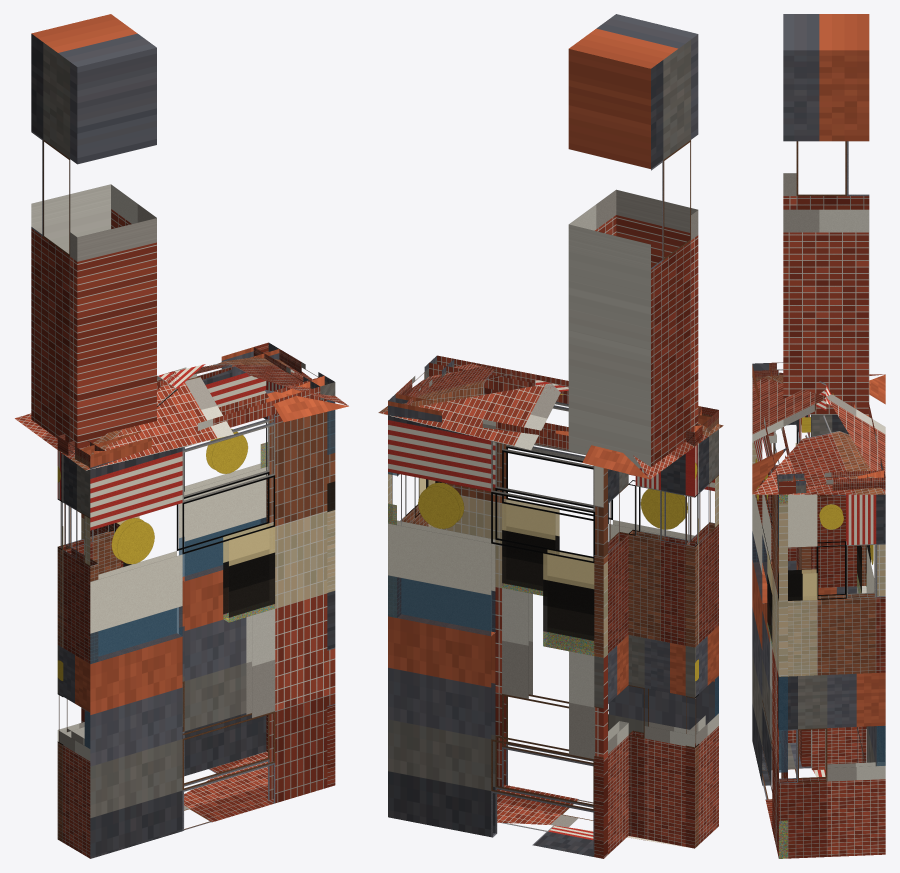
3 renders of one model, left to right at view 1: azimuth 30°, elevation 25°; view 2: azimuth 150°, elevation 25°; view 3: azimuth 270°, elevation 25°, orthographic. The views are drawn at different scales.
Parts seen in each view (by area): view 1: 238625188__wall_4_xb, 238625188__chimney_0_xb, 238625188__wall_0_xb, 238625188__wall_3_xb, 238625188__wall_4_xf, 238625188_roof_front_xb, 238625188__base, 238625188__wall_2_xb, 238625188__wall_5_xb, 238625188__cornice_4, 238625188__wall_0_xf, 238625188_roof_right_xb (+4 smaller); view 2: 238625188__wall_0_xb, 238625188__chimney_0_xb, 238625188__wall_4_xb, 238625188__wall_2_xb, 238625188__wall_3_xb, 238625188__wall_1_xb, 238625188__wall_0_xf, 238625188_roof_back_xb, 238625188__wall_4_xf, 238625188__base, 238625188_roof_right_xb, 238625188__cornice_0 (+3 smaller); view 3: 238625188__chimney_0_xb, 238625188__wall_5_xb, 238625188__wall_4_xb, 238625188__wall_1_xb, 238625188_roof_right_xb, 238625188_roof_front_xb, 238625188_roof_back_xb, 238625188__wall_4_xf, 238625188__wall_0_xb, 238625188__cornice_5, 238625188__wall_2_xb, 238625188__wall_3_xb (+5 smaller).
Boxes of the visible parts, box(x1,y1,x2,y2) form: 238625188__wall_4_xb: box(84, 399, 335, 858); 238625188__chimney_0_xb: box(31, 14, 156, 449); 238625188__wall_0_xb: box(81, 369, 267, 776); 238625188__wall_3_xb: box(57, 450, 98, 858); 238625188__wall_4_xf: box(85, 524, 274, 748); 238625188_roof_front_xb: box(86, 372, 348, 470); 238625188__base: box(184, 751, 273, 830); 238625188__wall_2_xb: box(57, 454, 120, 842); 238625188__wall_5_xb: box(260, 381, 335, 787); 238625188__cornice_4: box(80, 375, 324, 469); 238625188__wall_0_xf: box(118, 432, 265, 580); 238625188_roof_right_xb: box(157, 357, 348, 405); 238625188__wall_0_xb: box(388, 415, 607, 858); 238625188__chimney_0_xb: box(568, 14, 698, 468); 238625188__wall_4_xb: box(433, 388, 718, 786); 238625188__wall_2_xb: box(628, 444, 698, 847); 238625188__wall_3_xb: box(685, 429, 718, 848); 238625188__wall_1_xb: box(594, 466, 628, 858); 238625188__wall_0_xf: box(388, 488, 593, 655); 238625188_roof_back_xb: box(379, 383, 649, 479); 238625188__wall_4_xf: box(502, 500, 718, 715); 238625188__base: box(497, 784, 690, 856); 238625188_roof_right_xb: box(378, 364, 568, 412); 238625188__cornice_0: box(388, 394, 568, 450); 238625188__chimney_0_xb: box(783, 14, 869, 414); 238625188__wall_5_xb: box(778, 494, 885, 858); 238625188__wall_4_xb: box(752, 436, 787, 858); 238625188__wall_1_xb: box(811, 414, 866, 770); 238625188_roof_right_xb: box(753, 385, 885, 494); 238625188_roof_front_xb: box(752, 378, 825, 494); 238625188_roof_back_xb: box(826, 374, 885, 493); 238625188__wall_4_xf: box(752, 495, 787, 858); 238625188__wall_0_xb: box(857, 544, 885, 766); 238625188__cornice_5: box(777, 470, 885, 493); 238625188__wall_2_xb: box(795, 414, 810, 766); 238625188__wall_3_xb: box(752, 416, 805, 743).
Bounding box in the file's own units: 0.4961 × 1.4 × 0.2325.
1 material, 1 textured.
